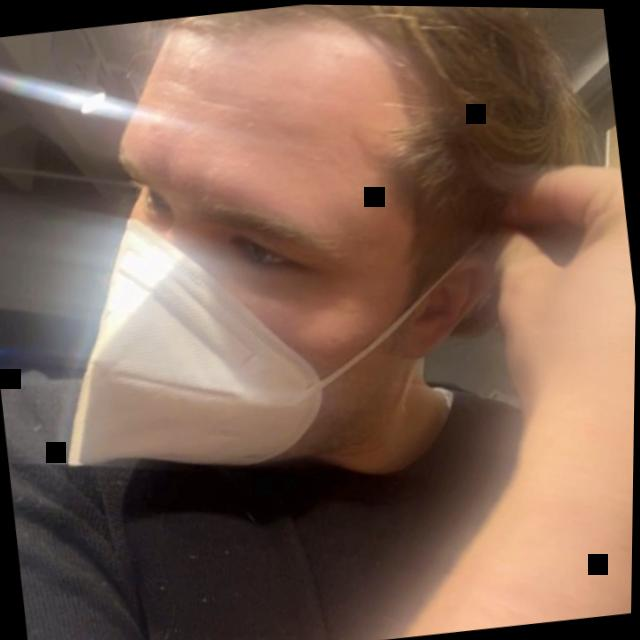Mask: (0, 0, 606, 482)
